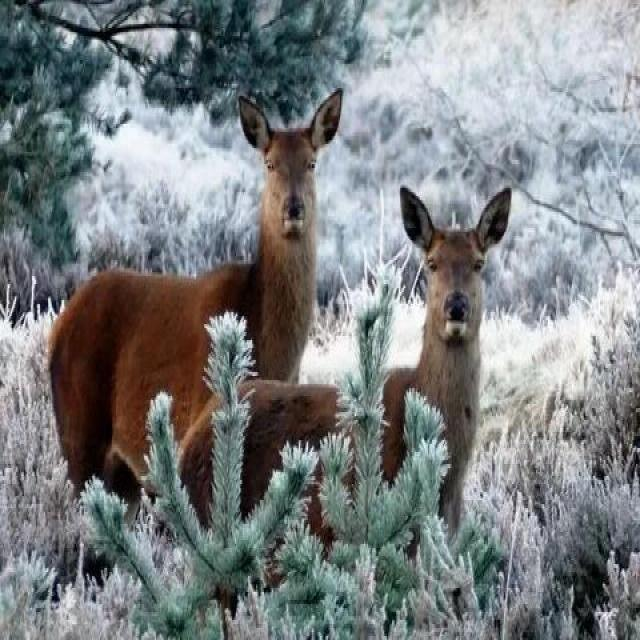deer: (214, 115, 538, 588), (77, 84, 346, 504)
